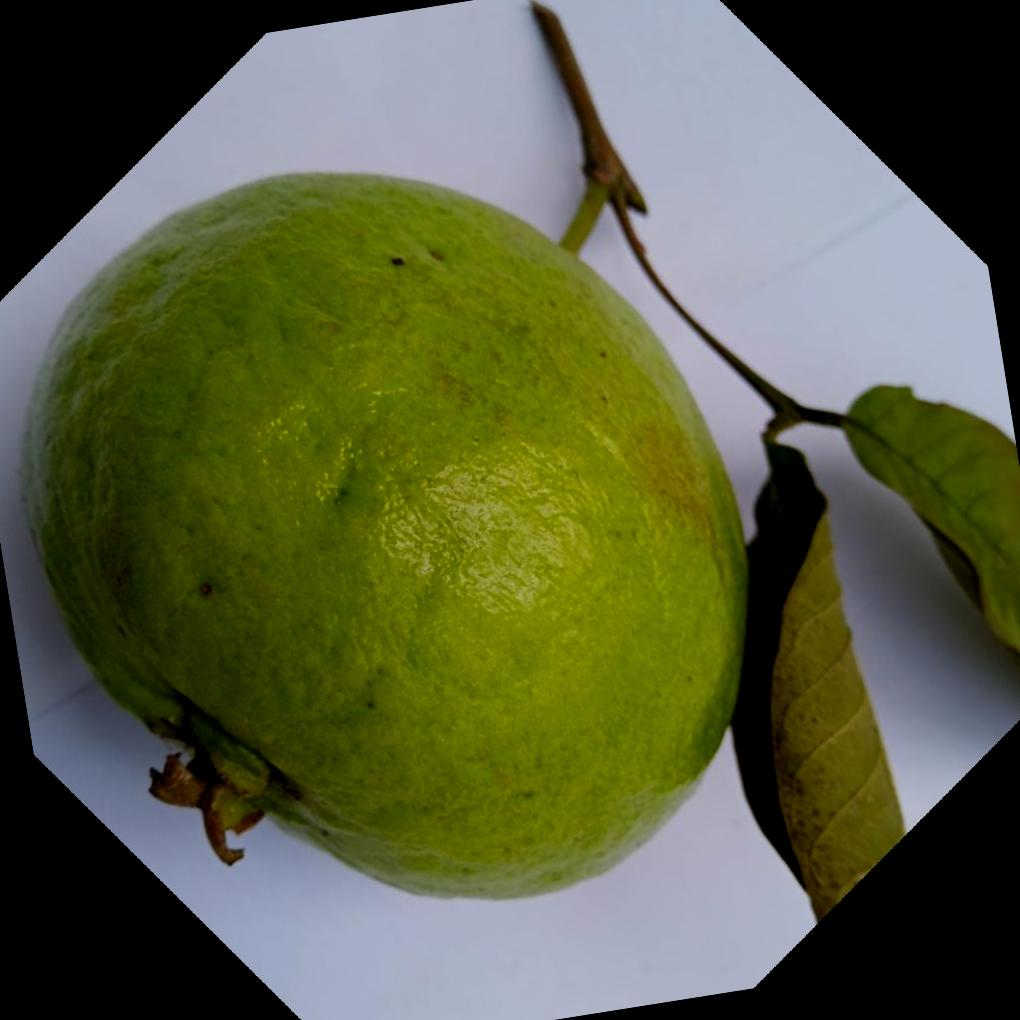FreshGuava: (19, 168, 748, 901)
